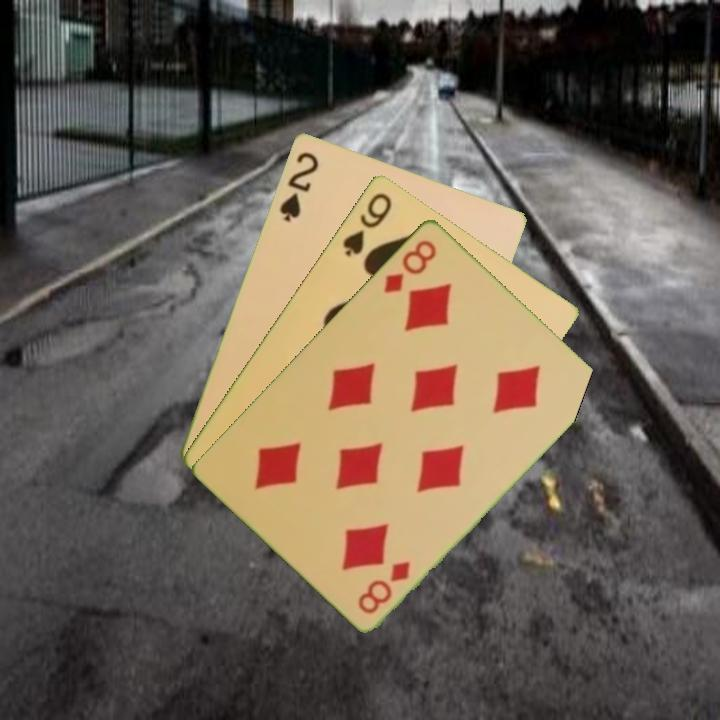2s: (275, 147, 321, 224)
8d: (379, 235, 440, 296), (354, 556, 413, 616)
9s: (339, 188, 395, 259)
